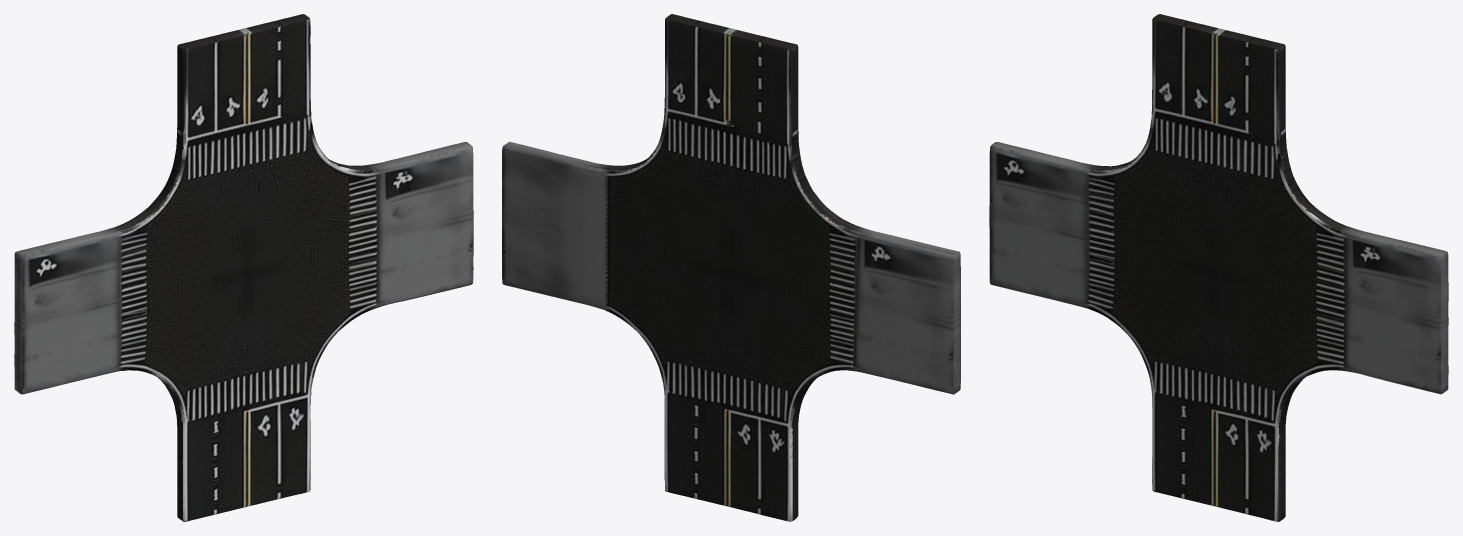
Rendered from 4_roads_circle.glb.
3 renders of one model, left to right at view 1: azimuth 30°, elevation 25°; view 2: azimuth 150°, elevation 25°; view 3: azimuth 330°, elevation 25°, orthographic.
Visible parts, largest first — view 1: world; view 2: world; view 3: world.
Part boxes in pixels (x1,y1,x2,y2): world: (14, 14, 473, 521); world: (502, 14, 960, 521); world: (989, 14, 1448, 521).
Bounding box in the file's own units: 0.9901 × 0.9896 × 0.0294.
1 material, 1 textured.
